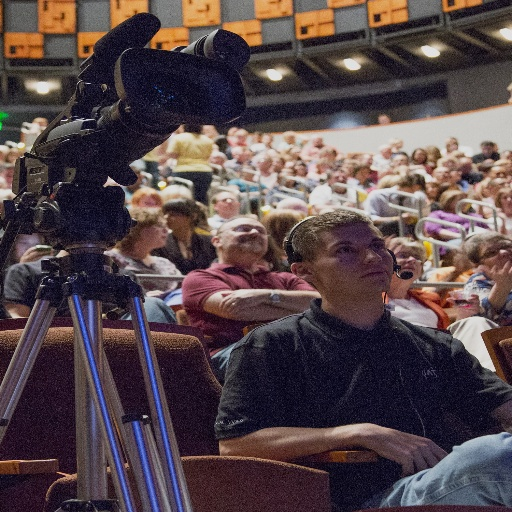hand: (210, 423, 469, 471), (213, 288, 263, 316), (481, 257, 511, 292), (401, 211, 419, 226)
